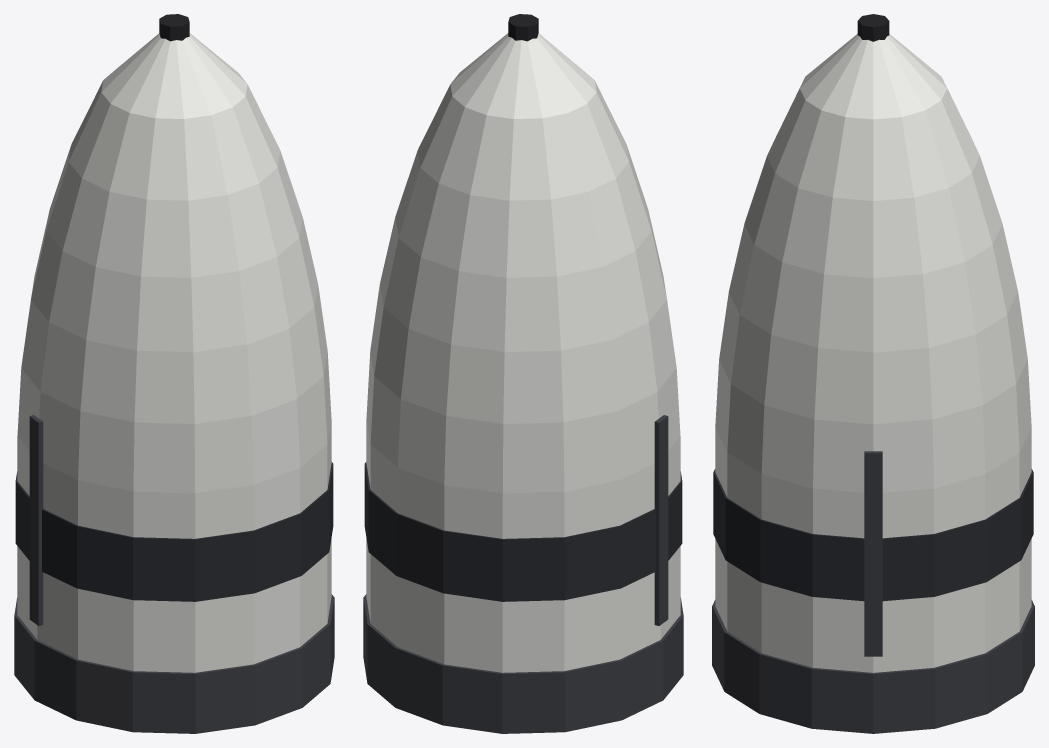
The model's file is Head_Fairing_S.fbx.
The picture shows the model from 3 angles, left to right: view 1: azimuth 30°, elevation 25°; view 2: azimuth 150°, elevation 25°; view 3: azimuth 270°, elevation 25°; orthographic projection.
Visible parts, largest first — view 1: Head_Fairing_S; view 2: Head_Fairing_S; view 3: Head_Fairing_S.
Part boxes in pixels (box(x1,y1,x2,y2)): Head_Fairing_S: box(14, 14, 334, 733); Head_Fairing_S: box(363, 14, 683, 733); Head_Fairing_S: box(712, 14, 1034, 733).
Bounding box in the file's own units: 1.23 × 2.7 × 1.22.
Materials: 1 (1 with a texture image).
